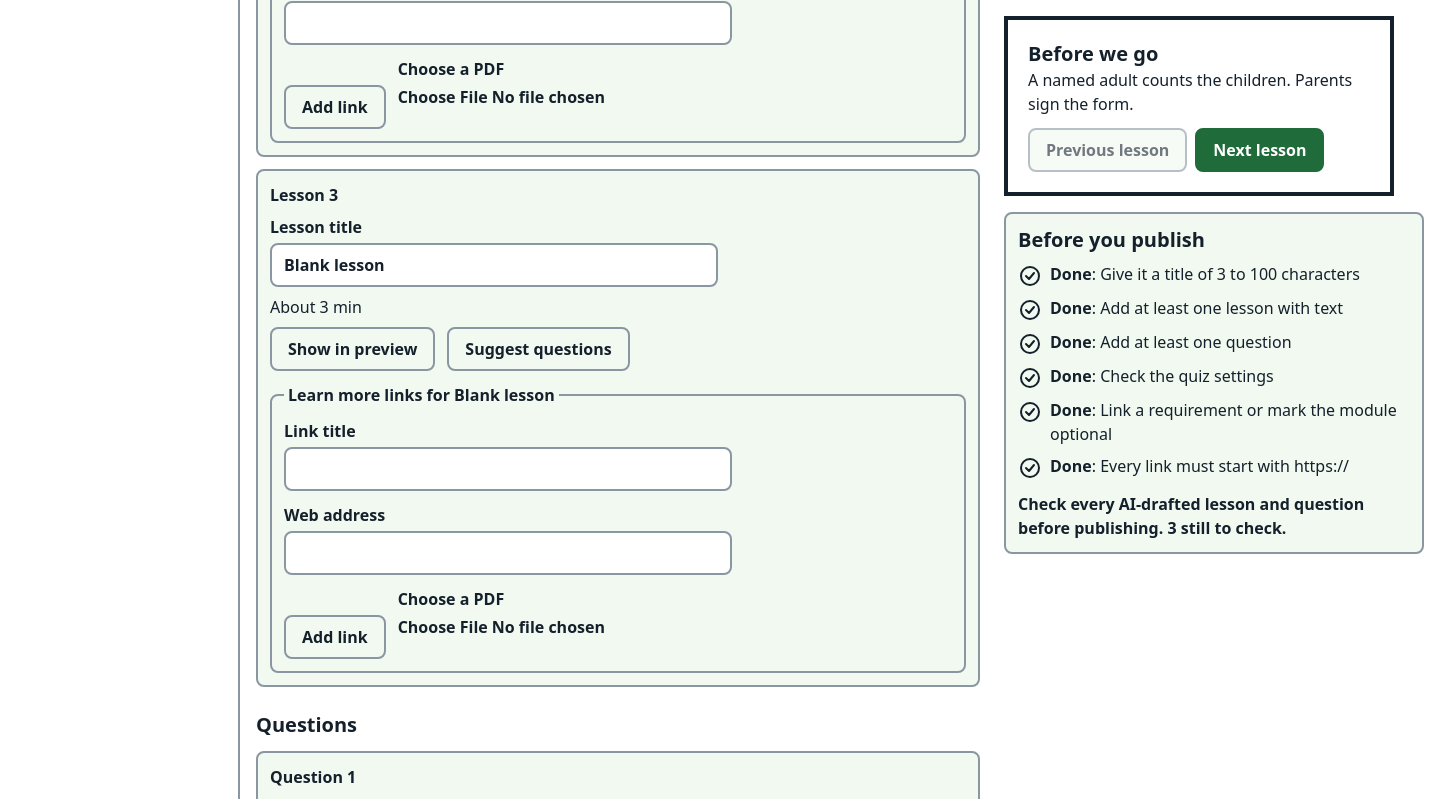
Test: C7 Suggest questions › says to add lesson text first for an empty lesson, and adds nothing and counts nothing
The width and height of the screenshot is (1440, 799).
(page scrolled)
Click the button "Suggest questions" at (539, 349), box 447,327 -> 630,371
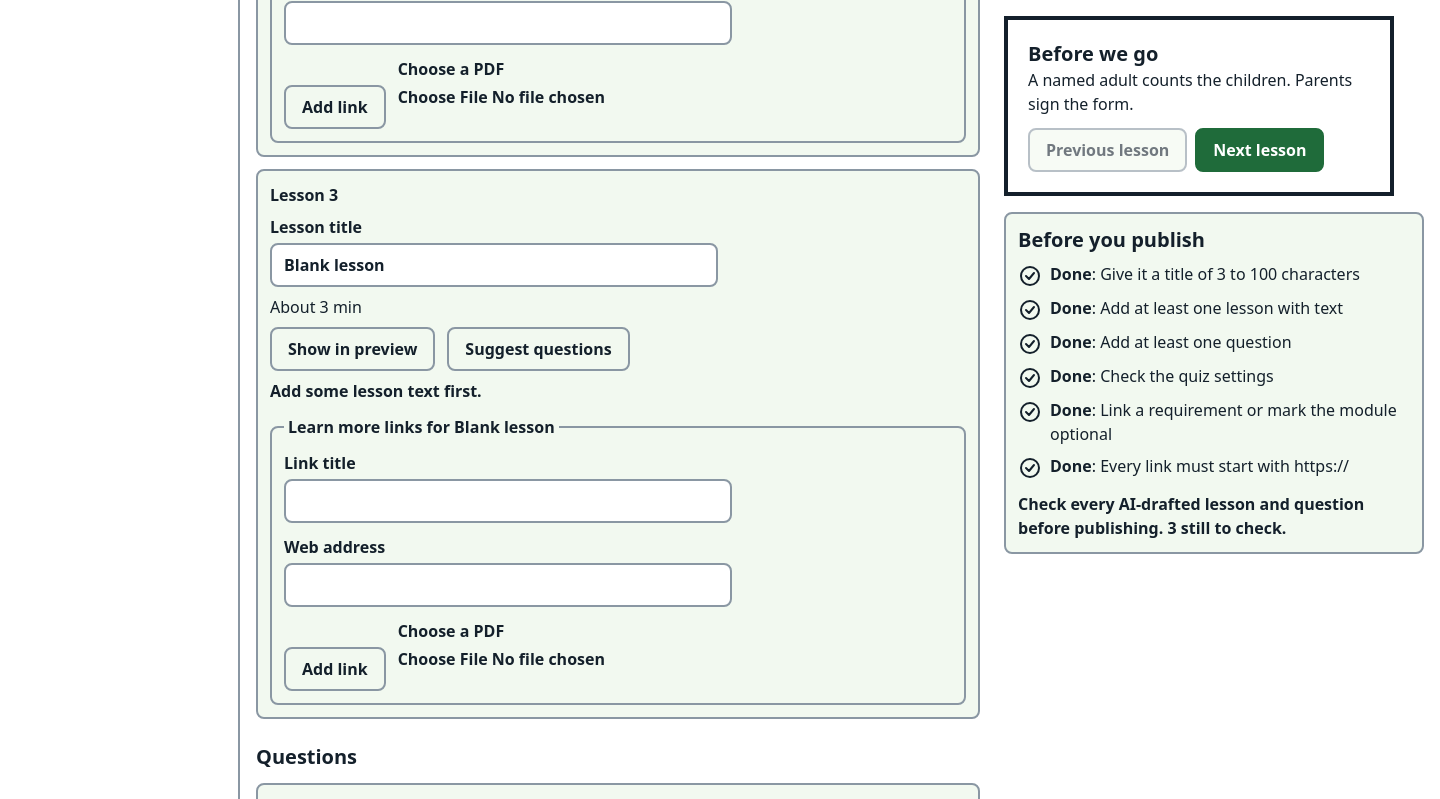
Result: the message reads "Add some lesson text first." at 270,380 -> 482,402
